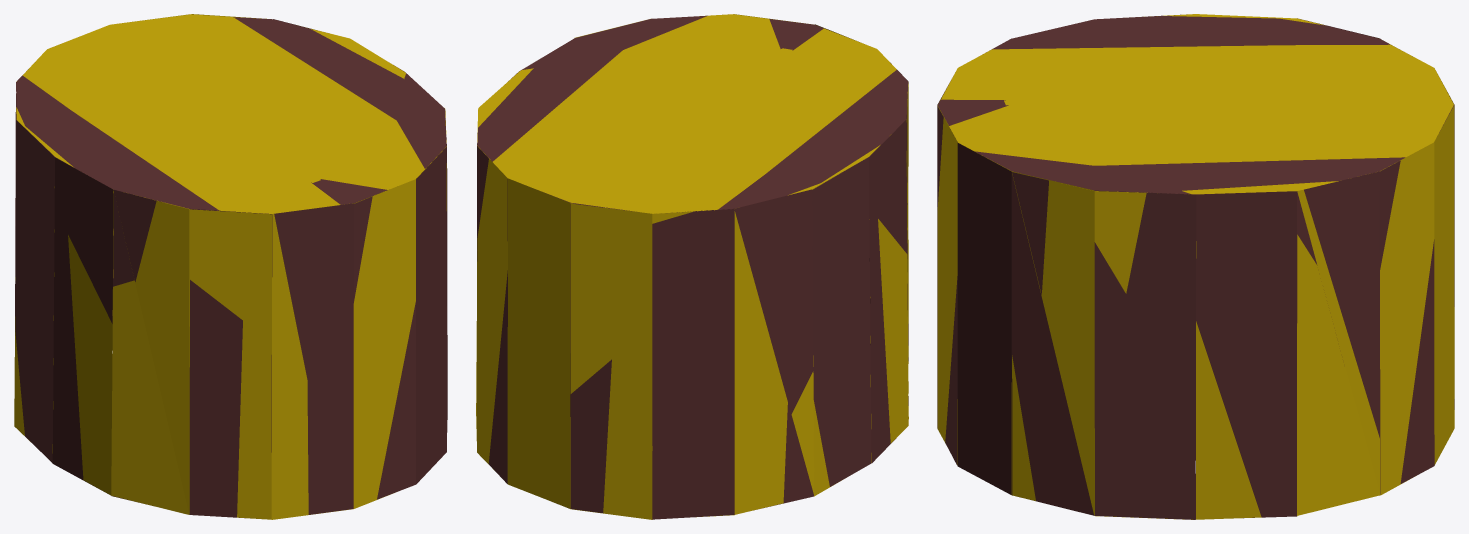
File: original_7.obj
The picture shows the model from 3 angles, left to right: view 1: azimuth 30°, elevation 25°; view 2: azimuth 150°, elevation 25°; view 3: azimuth 270°, elevation 25°; orthographic projection. The views are drawn at different scales.
Parts seen in each view (by area): view 1: #ID43; view 2: #ID43; view 3: #ID43.
Boxes of the visible parts, left/top/right/bottom form: #ID43: left=14, top=14, right=447, bottom=519; #ID43: left=476, top=14, right=908, bottom=519; #ID43: left=937, top=14, right=1454, bottom=519.
Bounding box in the file's own units: 0.1632 × 0.1349 × 0.1949.
